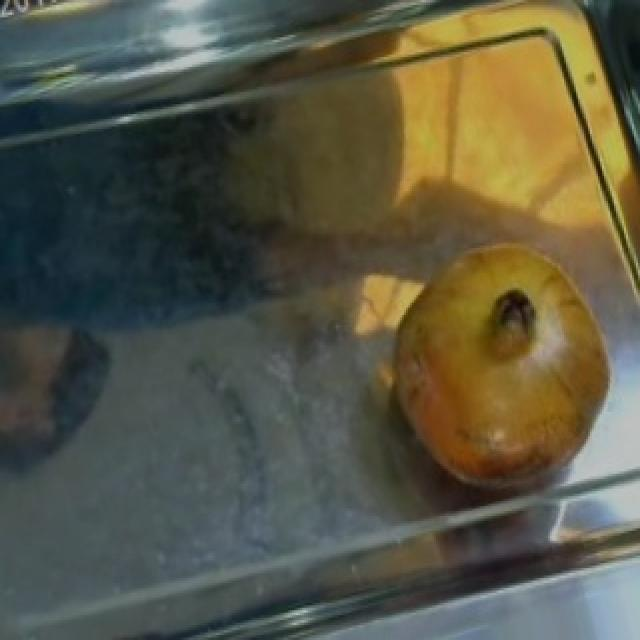fruit: (362, 213, 632, 501)
